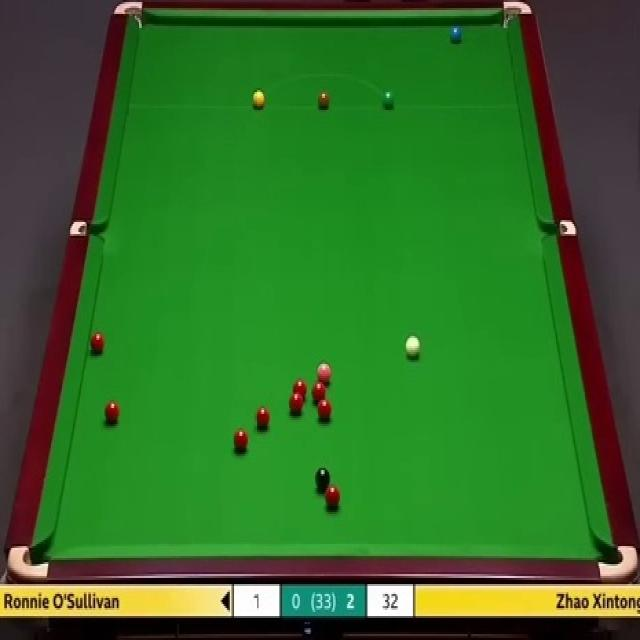pocket: (594, 542, 640, 584), (6, 543, 50, 585), (110, 0, 143, 32), (501, 0, 533, 32), (540, 220, 577, 238), (70, 218, 104, 237)
